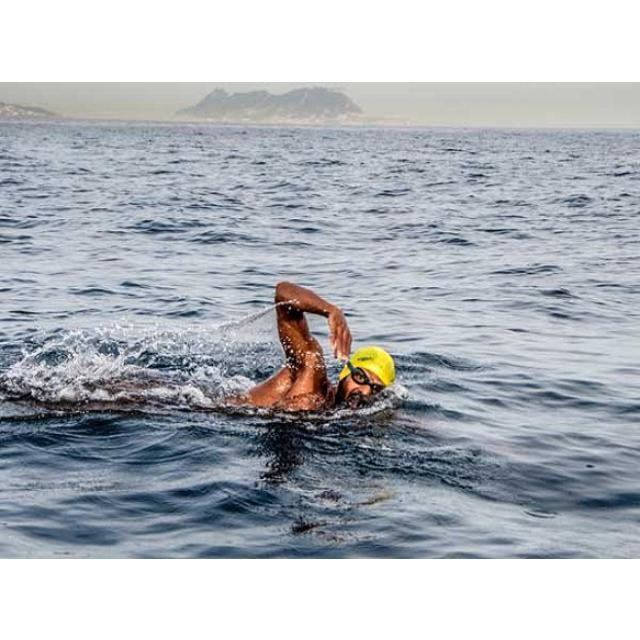human: (234, 280, 395, 421)
